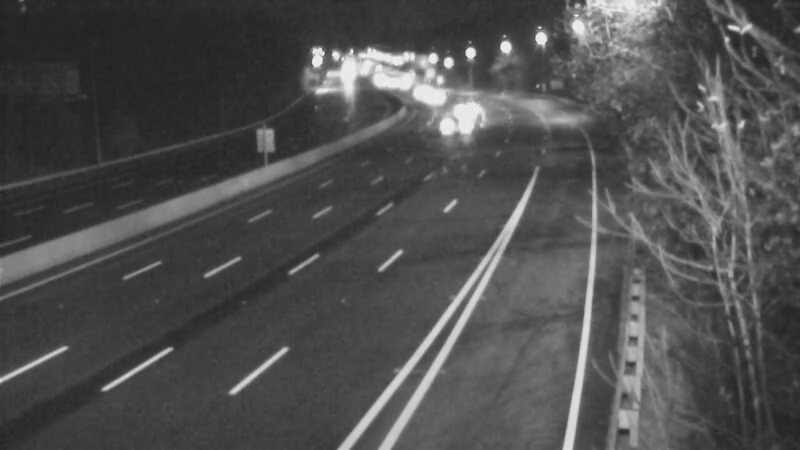vehicle: (394, 64, 444, 114), (402, 72, 452, 122), (442, 84, 492, 134), (434, 99, 484, 149)
